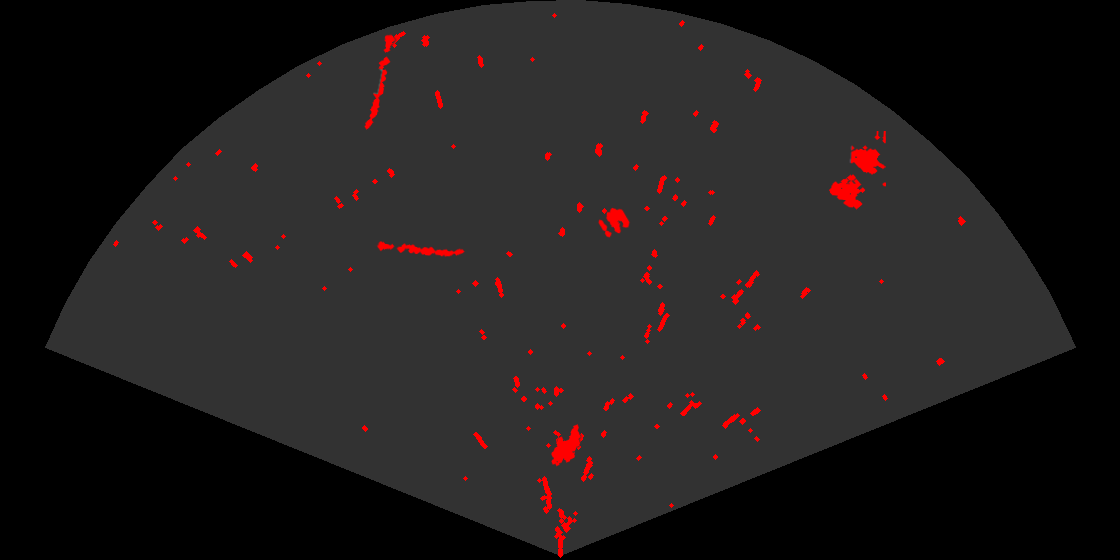AUV: (550, 423, 582, 468)
ball: (597, 206, 632, 239)
cage: (828, 131, 886, 211)
chain: (363, 32, 397, 131), (374, 240, 466, 259)
